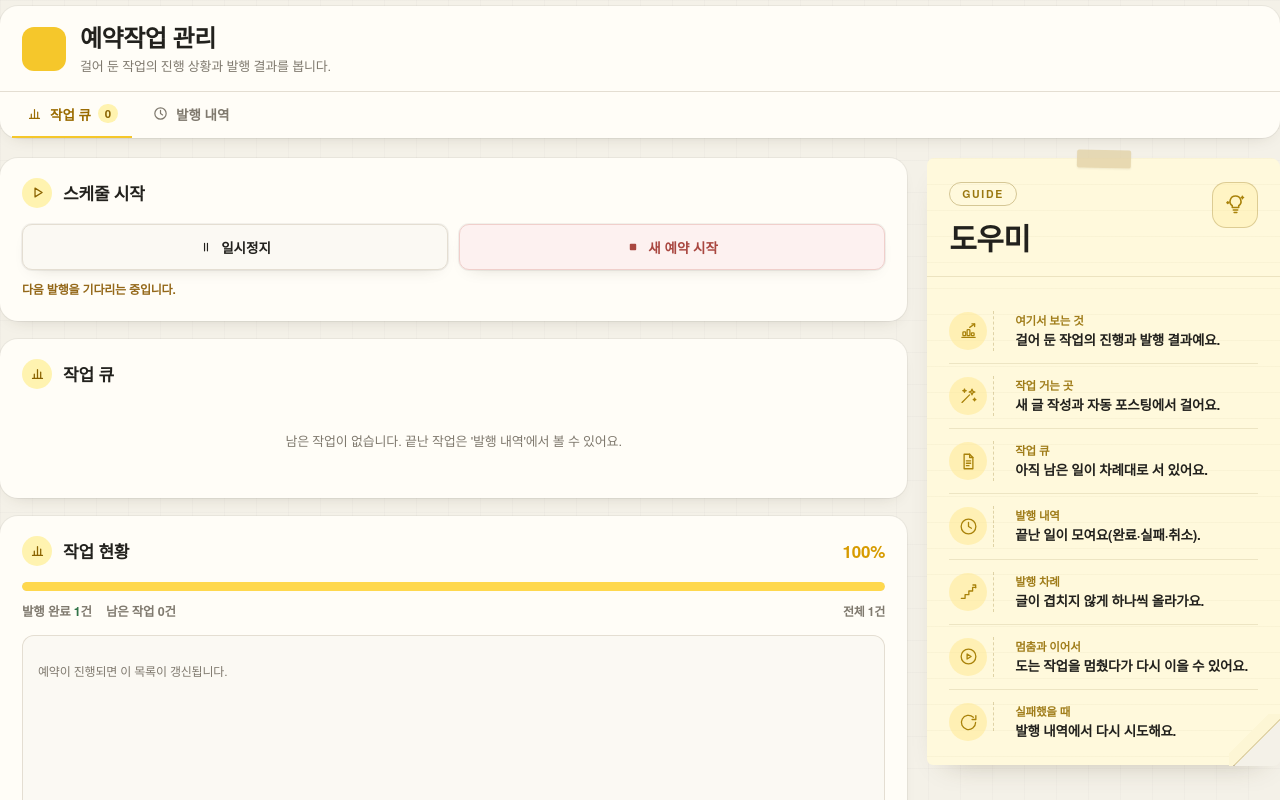
it: 예약 포스팅 화면 › 발행 내역은 소재가 아니라 만들어진 글 제목을 보여 준다
Click the tab "발행 내역": x=191, y=115 [138, 92, 243, 138]
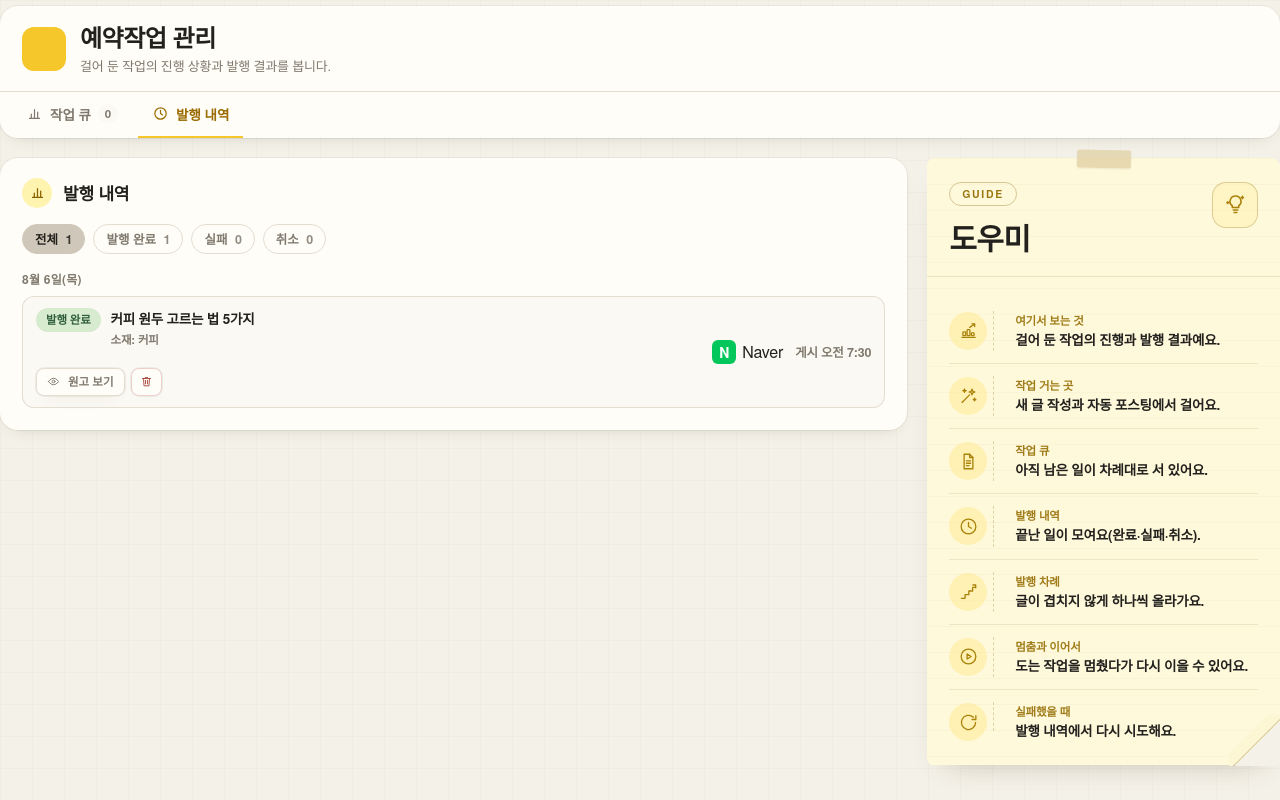
expect the text with class "history-title" reads "커피 원두 고르는 법 5가지": met, box [111, 309, 254, 328]
expect the text with class "history-topic" reads "소재: 커피": met, box [111, 331, 159, 348]
